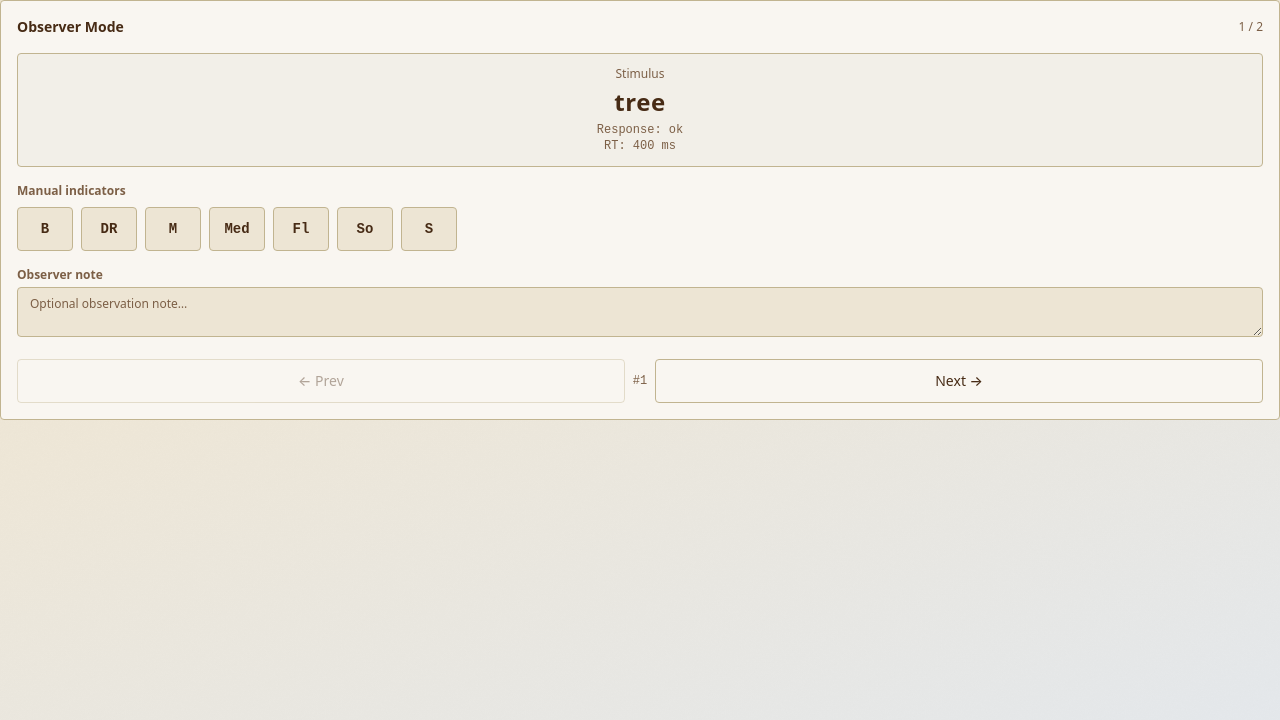
ObserverMode (0285) › navigates to next trial
The image size is (1280, 720).
Click the button with test id "observer-next". click: (959, 381)
box: 655,359 -> 1263,403
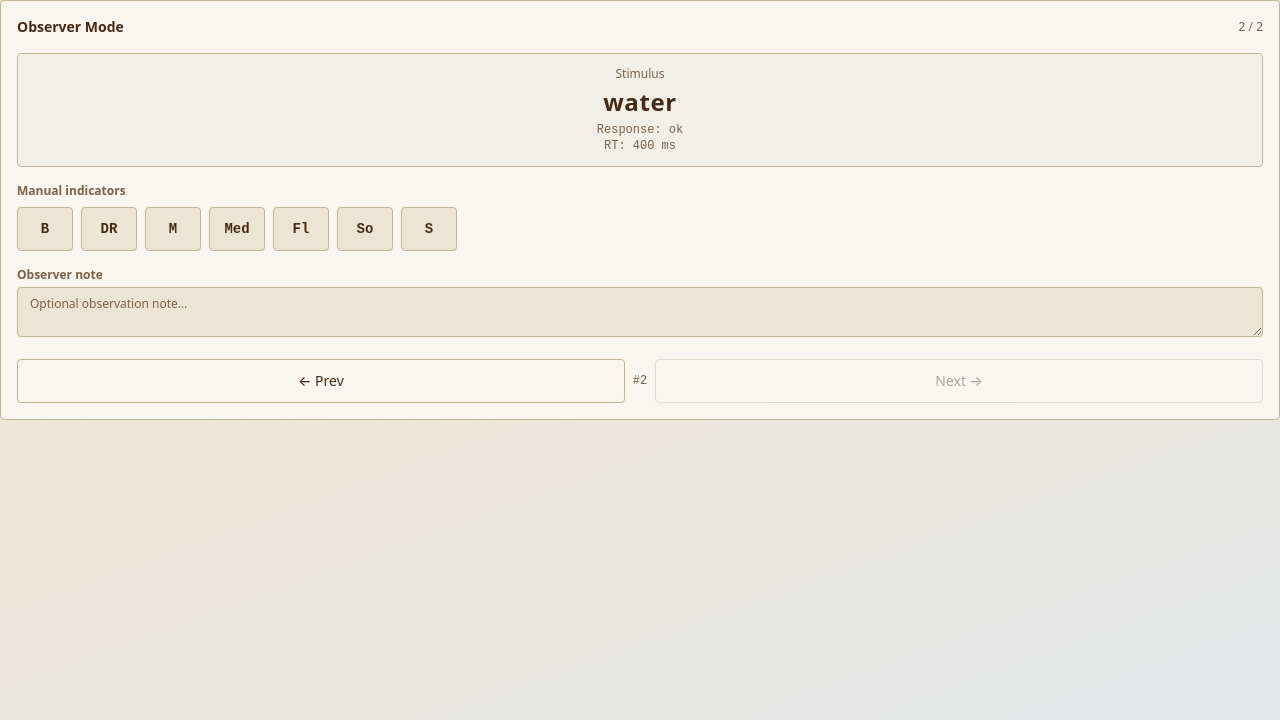
Expected: the text with test id "observer-stimulus-word" reads "water", 603,85 -> 677,118
